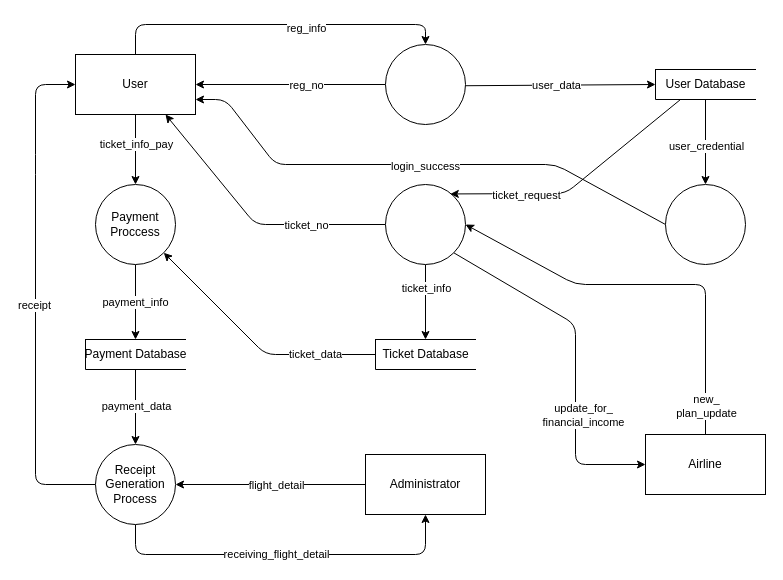
The diagram is 783 pixels wide and 580 high, and some of its shapes have lost their labels. The shapes that lost their labels are listed below. From the top down, each one's centre as x and y in pixels, then its label:
At [425,84]: "Registration Process".
At [425,224]: "Ticket Issue Process".
At [705,224]: "Verification Process".
